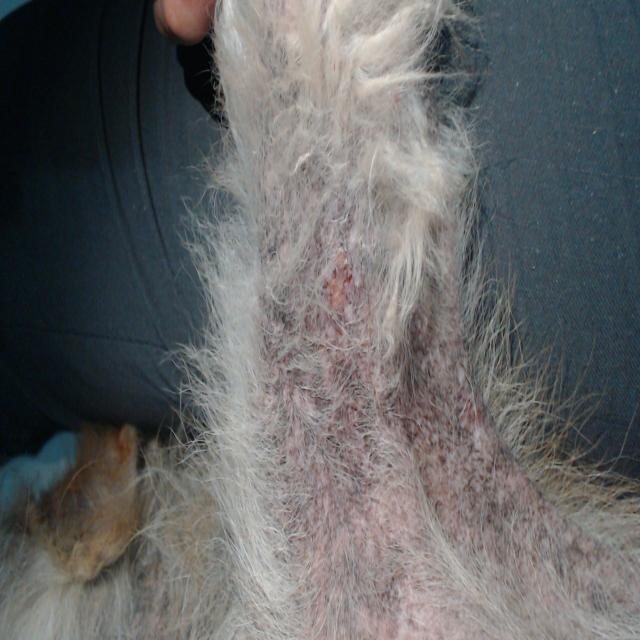demodicosis: (281, 264, 464, 533)
